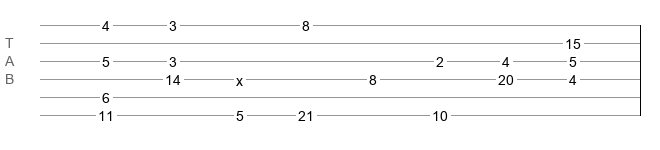10: (432, 108, 448, 118)
11: (98, 108, 114, 118)
14: (165, 72, 181, 82)
15: (565, 36, 581, 46)
2: (436, 54, 444, 64)
20: (498, 72, 514, 82)
21: (298, 108, 314, 118)
3: (169, 18, 177, 28), (169, 54, 177, 64)
4: (102, 18, 110, 28), (502, 54, 510, 64), (569, 72, 577, 82)
5: (102, 54, 110, 64), (236, 108, 244, 118), (569, 54, 577, 64)
6: (102, 90, 110, 100)
8: (302, 18, 310, 28), (369, 72, 377, 82)
x: (236, 73, 243, 81)
